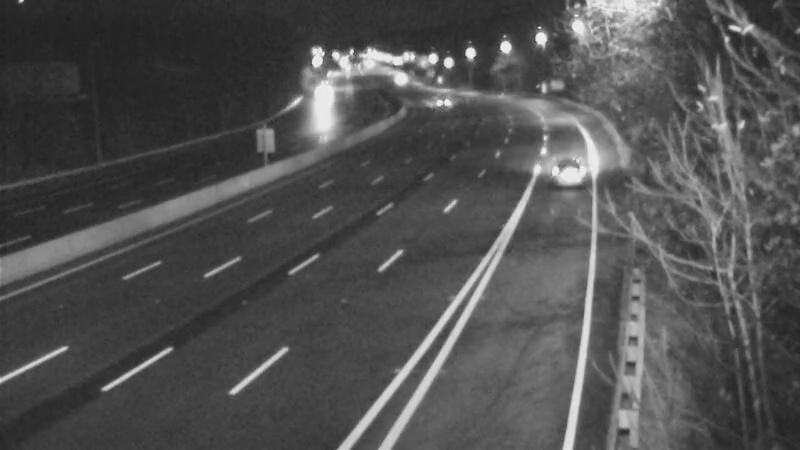vehicle: (528, 130, 608, 210), (371, 53, 421, 103), (403, 74, 453, 124), (295, 79, 345, 129)
